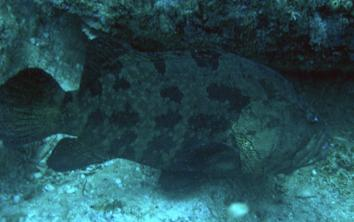Serranidae -Groupers-: (0, 30, 337, 196)
